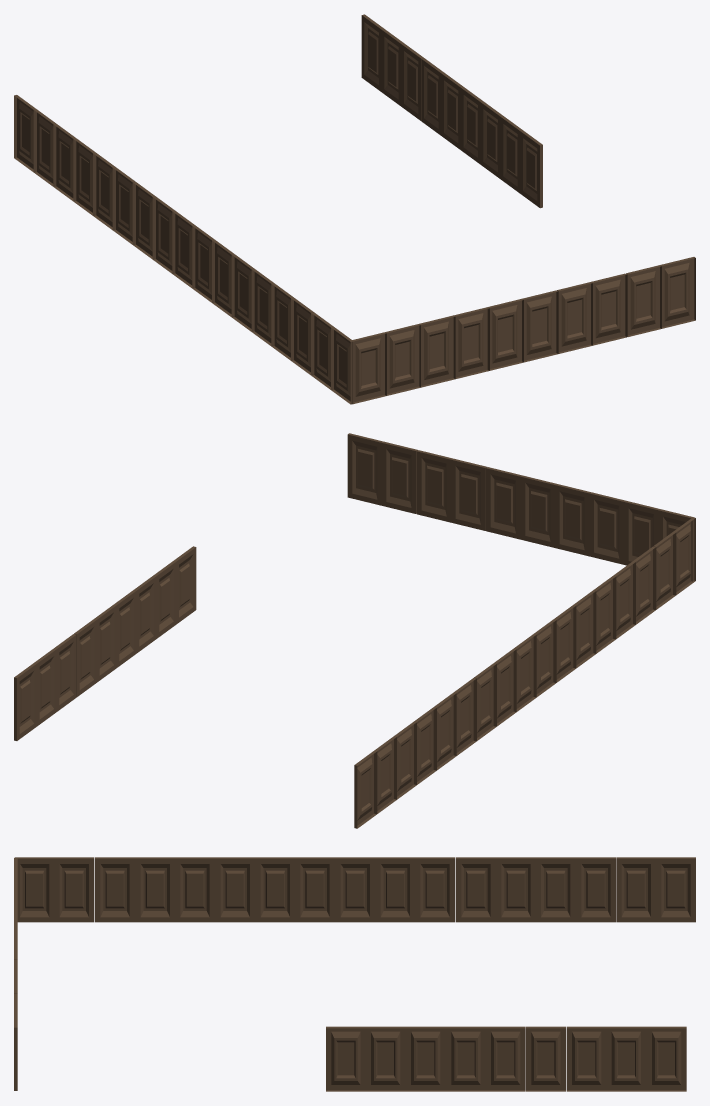
Rendered from Decoracion pared estudio.fbx.
The picture shows the model from 3 angles, top to bottom: view 1: azimuth 30°, elevation 25°; view 2: azimuth 150°, elevation 25°; view 3: azimuth 270°, elevation 25°; orthographic projection.
Parts seen in each view (by area): view 1: pCube247; view 2: pCube247; view 3: pCube247.
Boxes of the visible parts, x1,y1,x2,y2 form: pCube247: [14, 14, 695, 404]; pCube247: [14, 433, 695, 828]; pCube247: [14, 857, 695, 1091].
Size of the model in its own units: 441 by 76.28 by 743.
